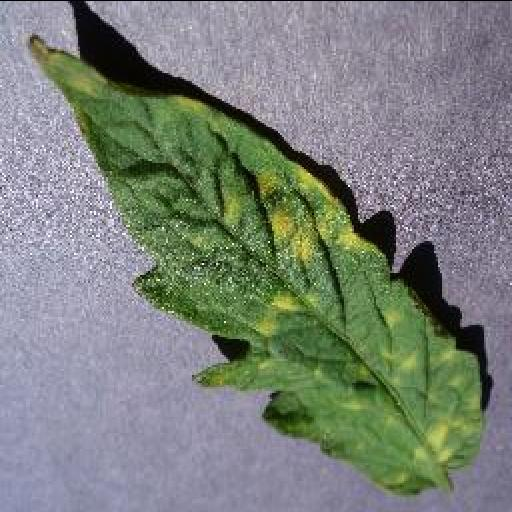disease_tomato: (28, 32, 482, 496)
